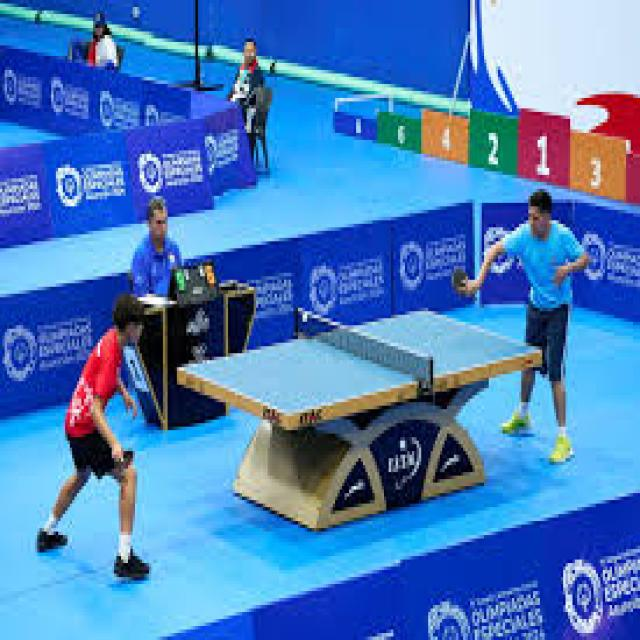TT Net: (293, 302, 435, 395)
TT Racket: (445, 264, 471, 297), (110, 448, 138, 474)
TT Table: (175, 309, 537, 419)
